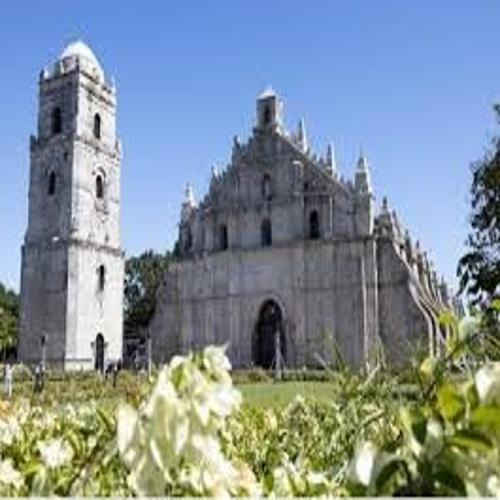Paoay Church: (13, 34, 459, 396)
